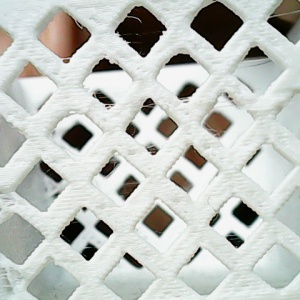3dpstringing: (235, 57, 275, 71), (211, 95, 239, 112), (195, 127, 221, 145), (263, 10, 299, 23), (174, 95, 199, 110), (103, 154, 126, 167), (121, 16, 148, 27), (52, 54, 78, 65), (116, 180, 145, 189), (1, 195, 16, 212), (221, 229, 241, 241), (142, 142, 158, 156), (102, 99, 119, 112), (75, 19, 86, 32), (137, 104, 164, 109)
3dpunderextrusion: (2, 267, 27, 291), (35, 254, 67, 272)
